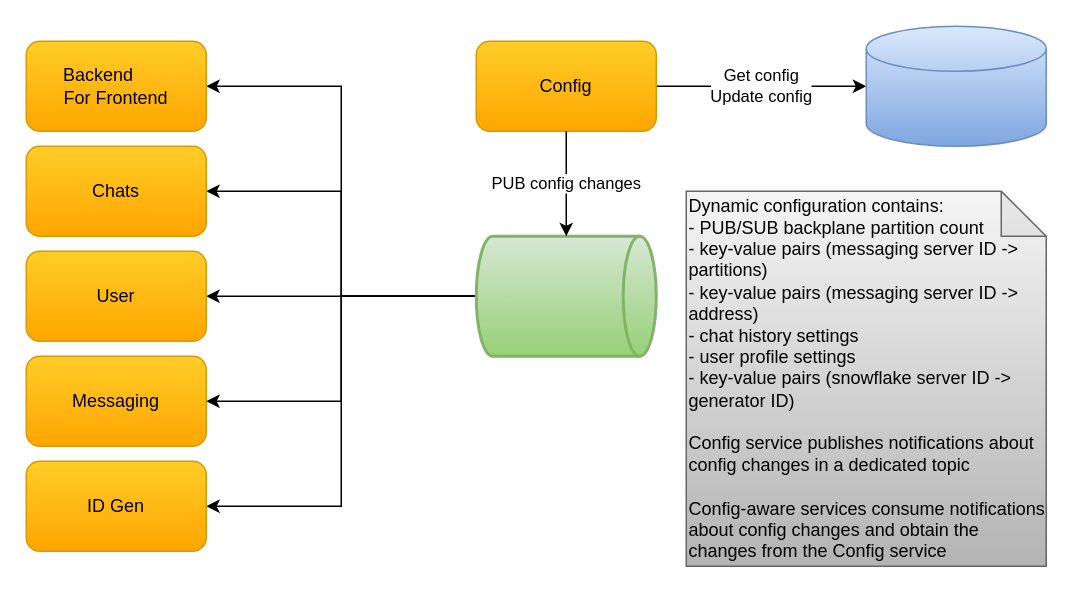
The diagram is 1073 pixels wide and 593 high, and some of its shapes have lost their labels. Each missing label, with the box of its shape:
Config DB: (865, 25, 1046, 146)
PUB/SUB backplane: (474, 234, 657, 357)
